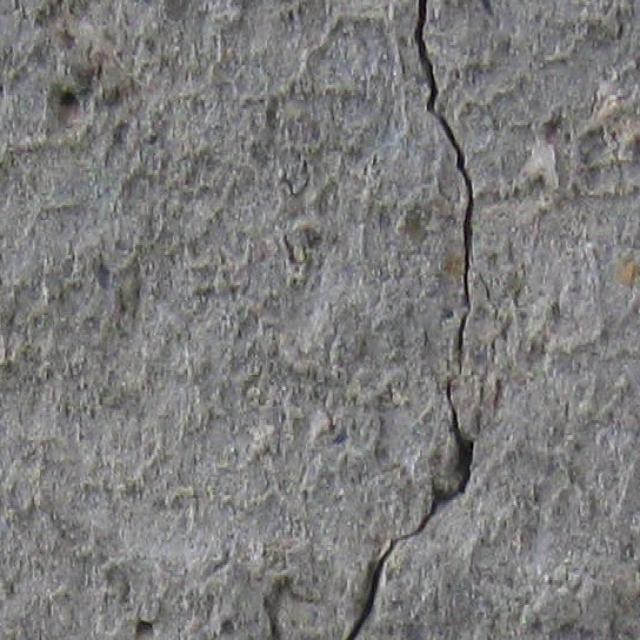crack: (335, 401, 479, 638), (412, 1, 478, 402)
